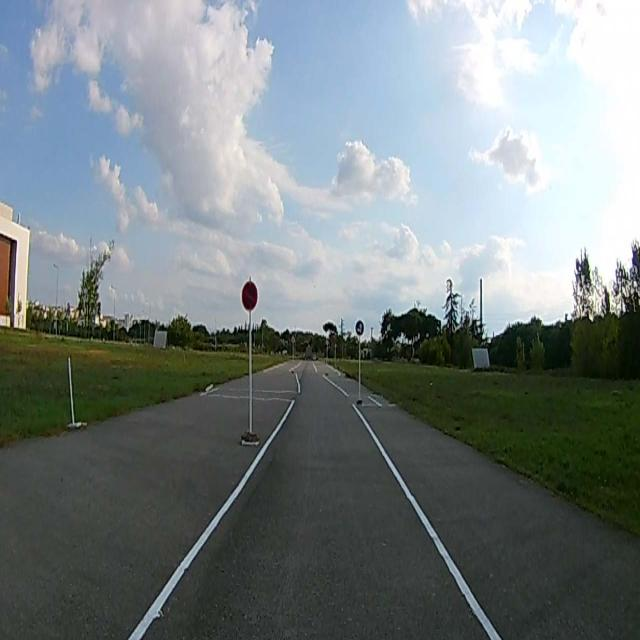parkyasak: (241, 281, 259, 313)
